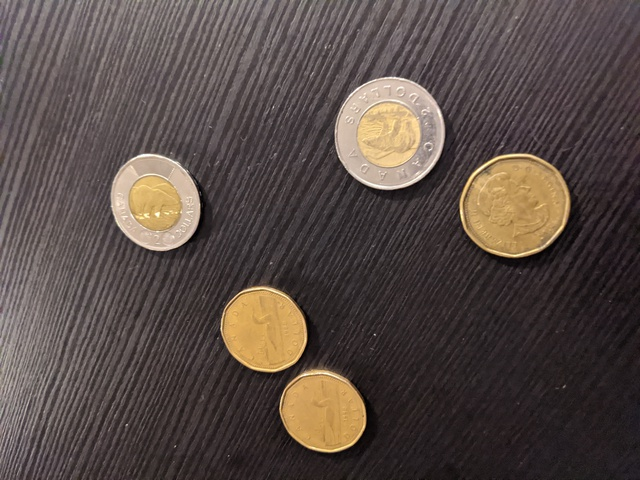loonie: (457, 144, 571, 265), (264, 365, 369, 452), (217, 287, 312, 376)
twonie: (323, 60, 448, 200), (103, 151, 201, 259)
